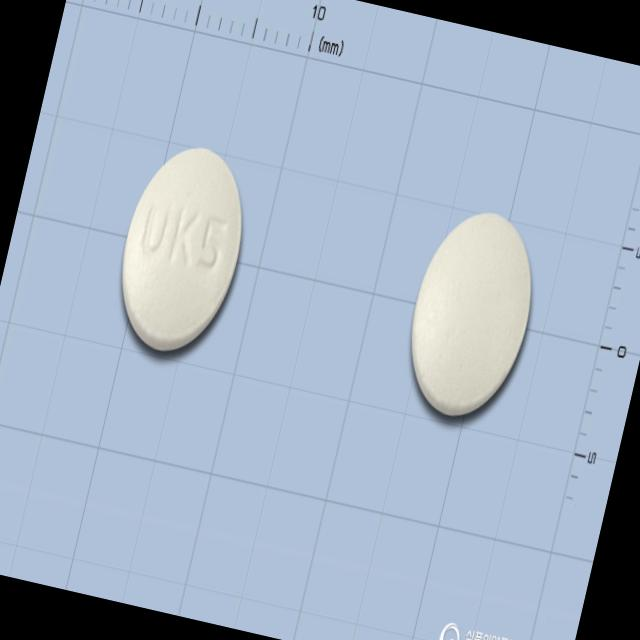Uniciprosacin Tab: (103, 133, 262, 364)
